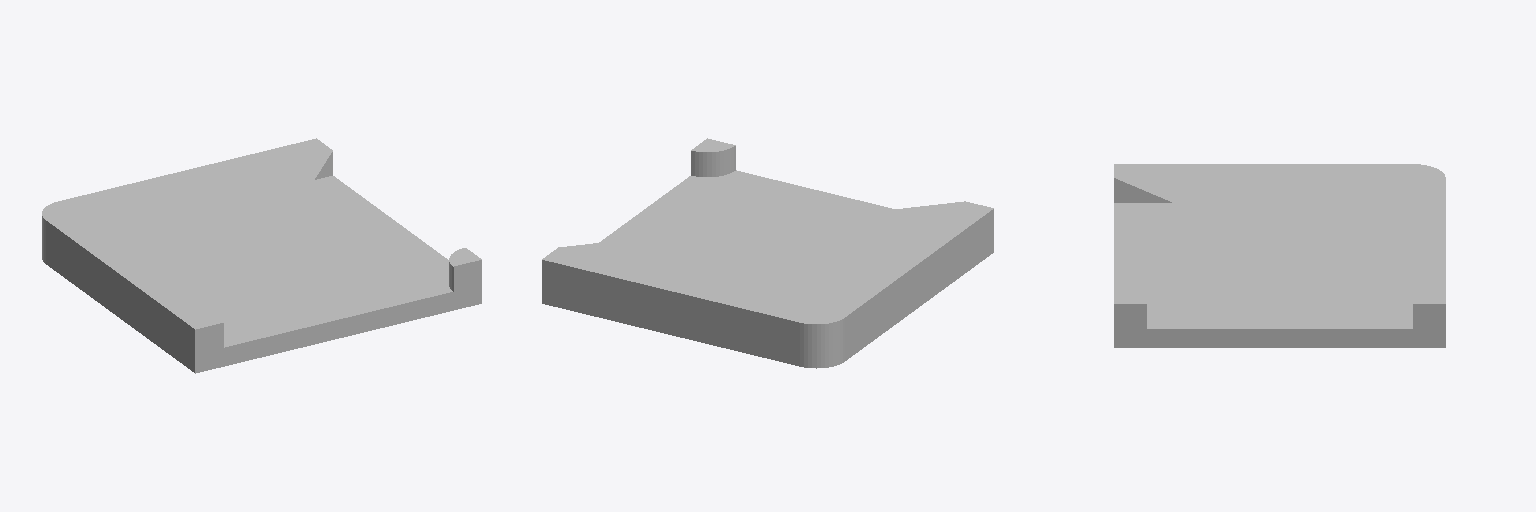
The model's file is Square_corner_1_01.obj.
The picture shows the model from 3 angles: view 1: azimuth 30°, elevation 25°; view 2: azimuth 150°, elevation 25°; view 3: azimuth 270°, elevation 25°; orthographic projection.
Parts seen in each view (by area): view 1: Mesh1 Square_corner_1 Model; view 2: Mesh1 Square_corner_1 Model; view 3: Mesh1 Square_corner_1 Model.
Boxes of the visible parts, <box> form: Mesh1 Square_corner_1 Model: <box>42,138,481,373</box>; Mesh1 Square_corner_1 Model: <box>542,138,993,368</box>; Mesh1 Square_corner_1 Model: <box>1114,164,1445,347</box>.
Size of the model in its own units: 3 by 0.44 by 3.